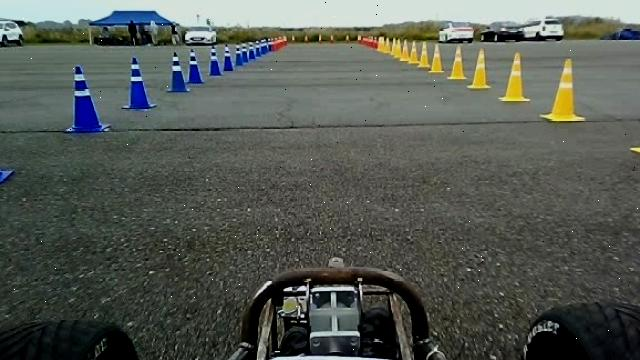blue cone: (62, 65, 109, 132), (121, 57, 156, 109), (166, 51, 189, 92), (186, 48, 204, 83), (207, 44, 222, 75), (222, 43, 232, 70), (234, 46, 242, 66)
yellow cone: (539, 58, 585, 122), (498, 51, 530, 101), (467, 47, 491, 89), (446, 44, 466, 80), (429, 44, 444, 72), (416, 40, 430, 68), (398, 38, 409, 61), (408, 40, 418, 63)
